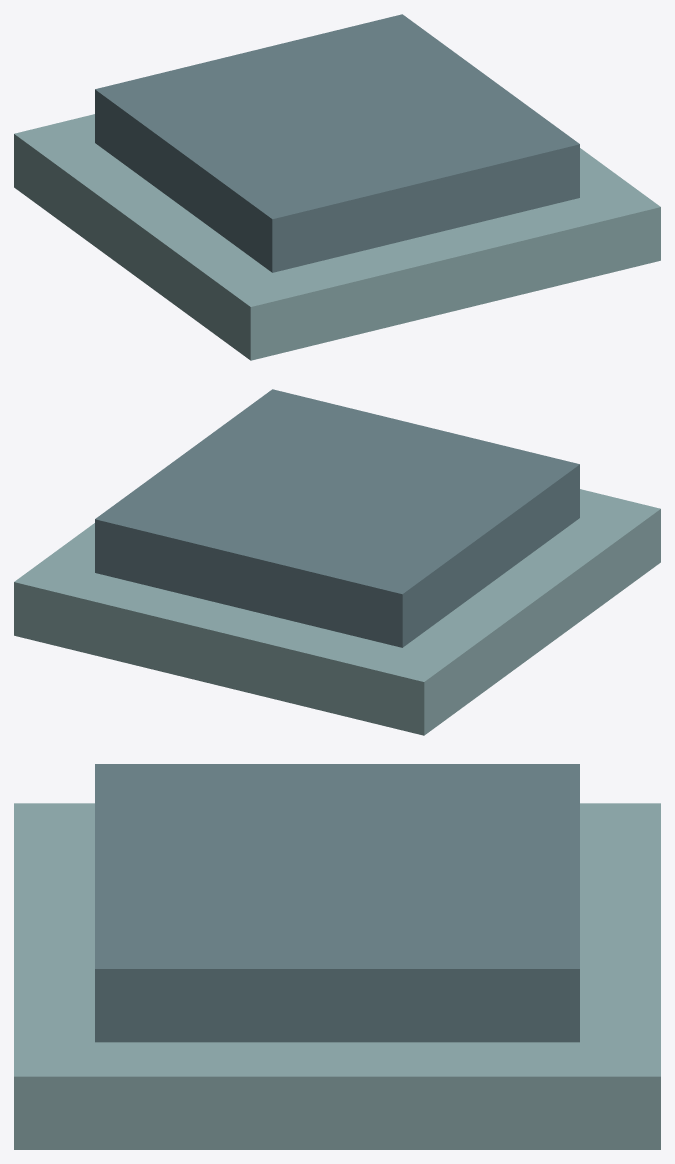
File: ground_tile.glb
3 views of the same model, one above another, from view 1: azimuth 30°, elevation 25°; view 2: azimuth 150°, elevation 25°; view 3: azimuth 270°, elevation 25° (orthographic). The views are drawn at different scales.
Parts seen in each view (by area): view 1: GroundTileSurface; view 2: GroundTileSurface; view 3: GroundTileSurface.
Boxes of the visible parts, x1,y1,x2,y2 form: GroundTileSurface: (14, 14, 660, 360); GroundTileSurface: (14, 389, 660, 735); GroundTileSurface: (14, 764, 660, 1149).
Bounding box in the file's own units: 2 × 0.5 × 2.
